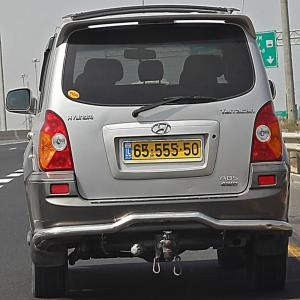Vehicle-registration-plate: (118, 134, 207, 179)
